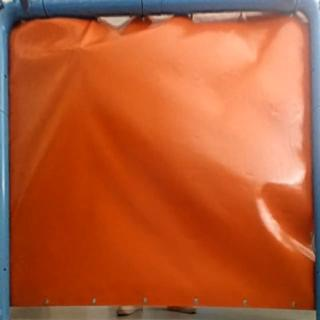Hit-hRxx: (74, 41, 88, 54)
